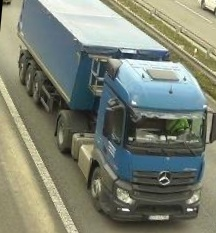truck: (2, 0, 216, 228)
